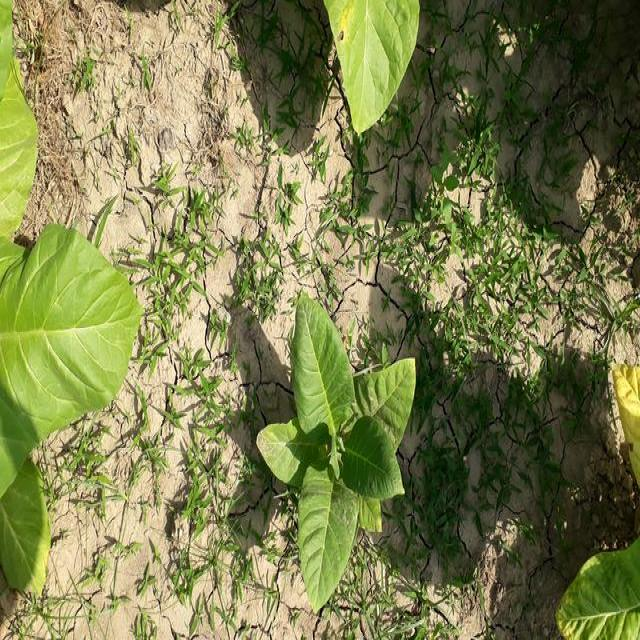crop: (257, 298, 418, 605), (0, 235, 136, 590), (320, 0, 414, 126), (567, 539, 640, 640), (0, 0, 29, 243), (609, 359, 640, 506)
